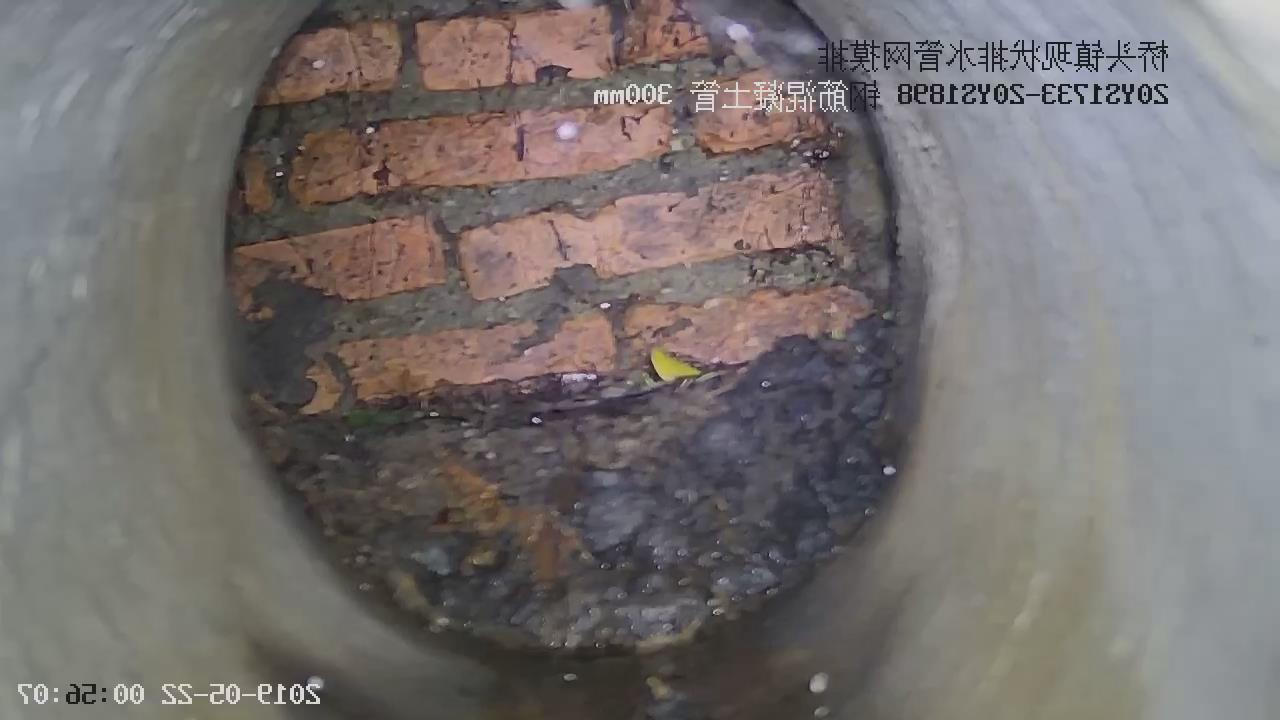CQBG: (231, 0, 896, 414)
